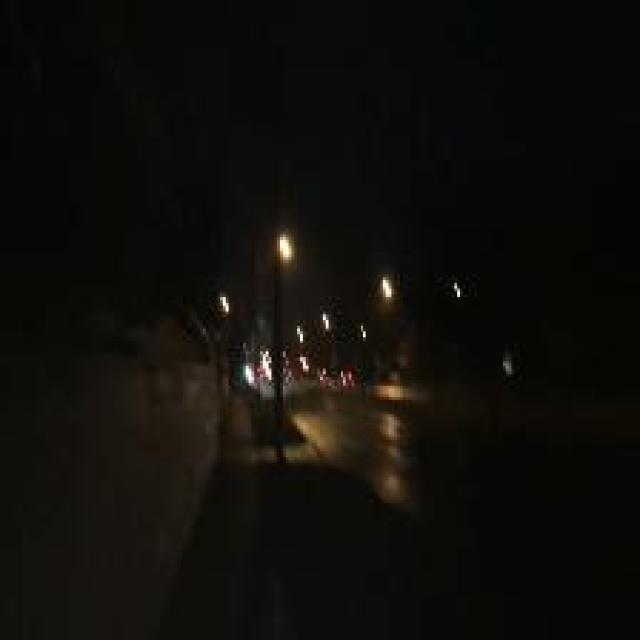other: (242, 332, 364, 401), (287, 302, 369, 348), (271, 218, 306, 272), (372, 264, 401, 304)
